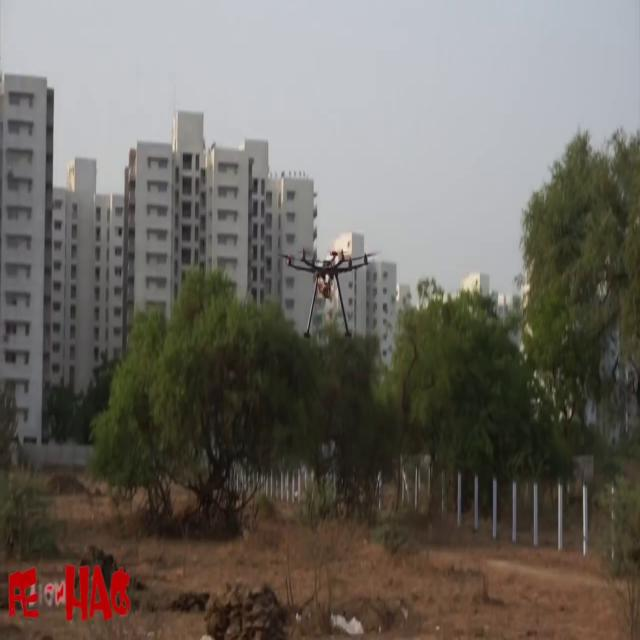drone: (279, 233, 376, 359)
